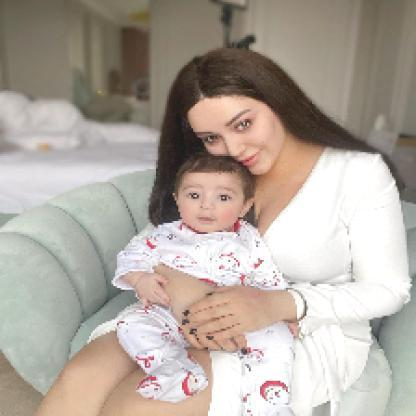child: (111, 151, 301, 404)
